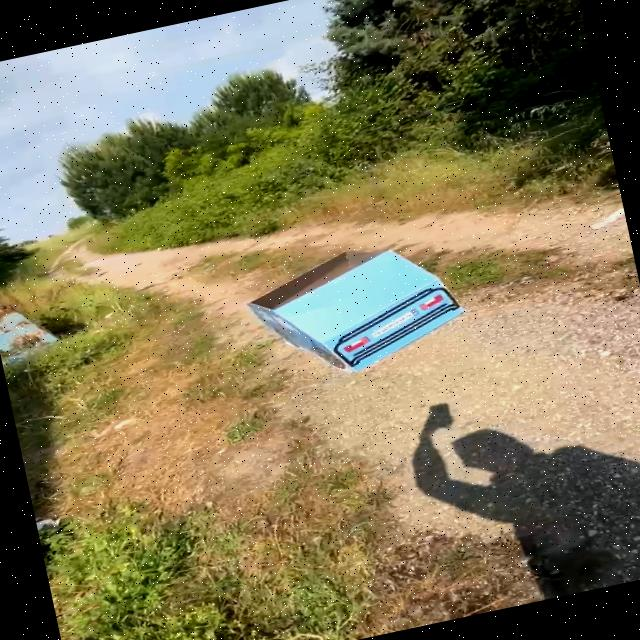blue_car: (223, 213, 494, 400)
